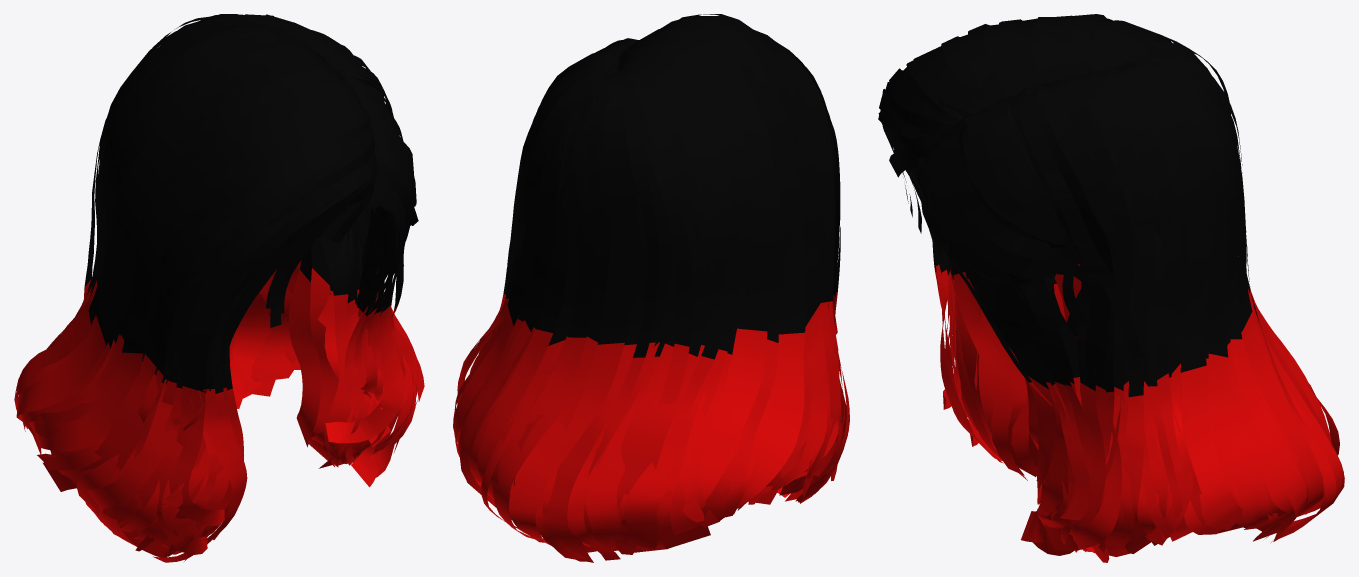
The model's file is hairj.FBX.
3 renders of one model, left to right at view 1: azimuth 30°, elevation 25°; view 2: azimuth 150°, elevation 25°; view 3: azimuth 270°, elevation 25°, orthographic. The views are drawn at different scales.
Parts seen in each view (by area): view 1: hairj; view 2: hairj; view 3: hairj.
Boxes of the visible parts, x1=… form: hairj: x1=14, y1=14, x2=424, y2=562; hairj: x1=453, y1=14, x2=849, y2=562; hairj: x1=878, y1=14, x2=1344, y2=562.
Size of the model in its own units: 27.12 by 29.09 by 34.25.
